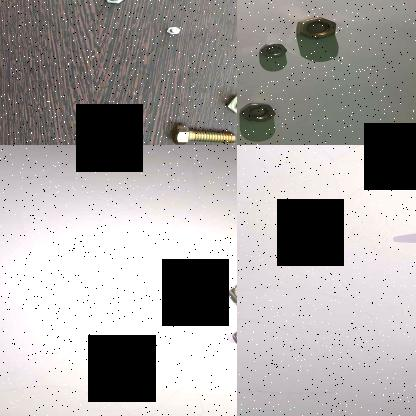Bolts: (172, 122, 237, 145), (96, 103, 131, 119), (221, 90, 237, 118), (101, 0, 131, 5)
NUTS: (294, 13, 344, 40), (237, 100, 276, 124), (219, 270, 237, 306), (258, 40, 288, 61), (220, 322, 237, 348)
